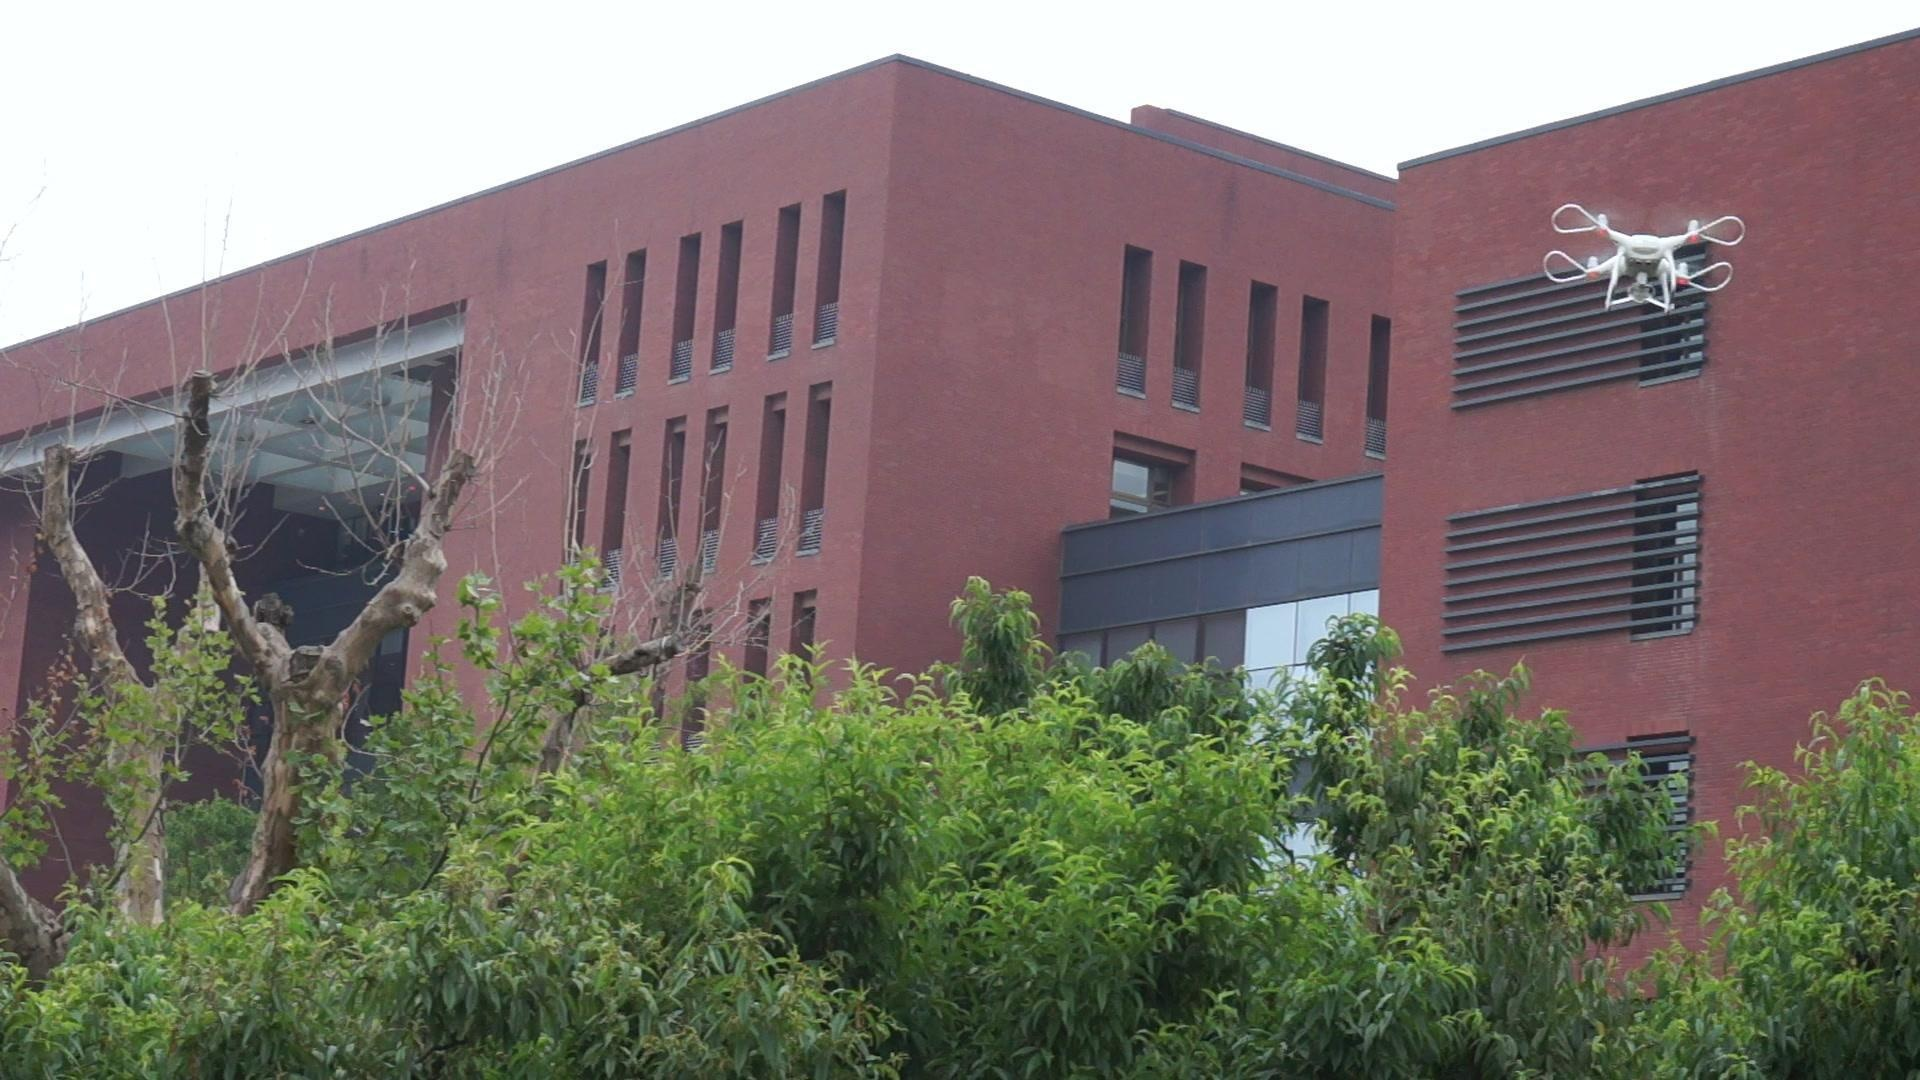UAV: (1543, 203, 1747, 314)
